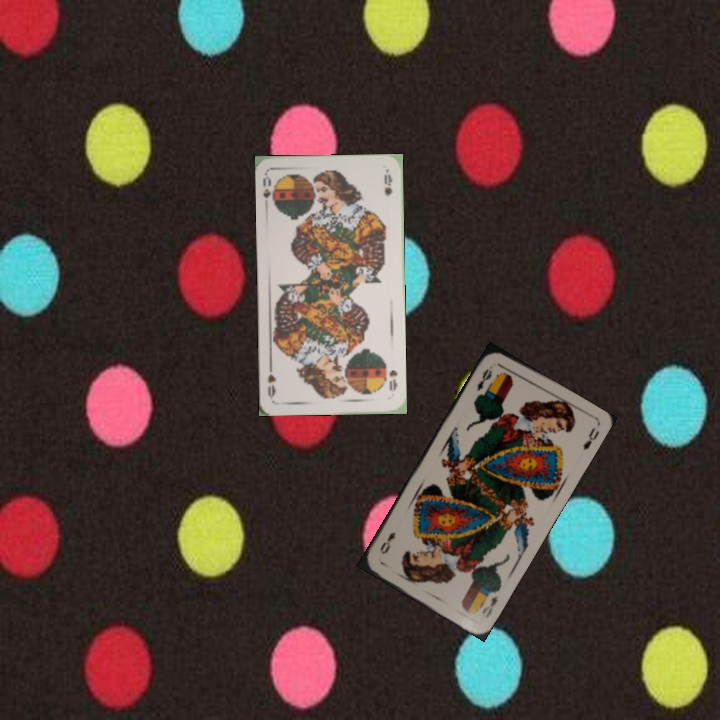EO: (473, 361, 495, 394), (478, 592, 502, 620)
SO: (259, 171, 278, 211), (385, 365, 400, 393)
